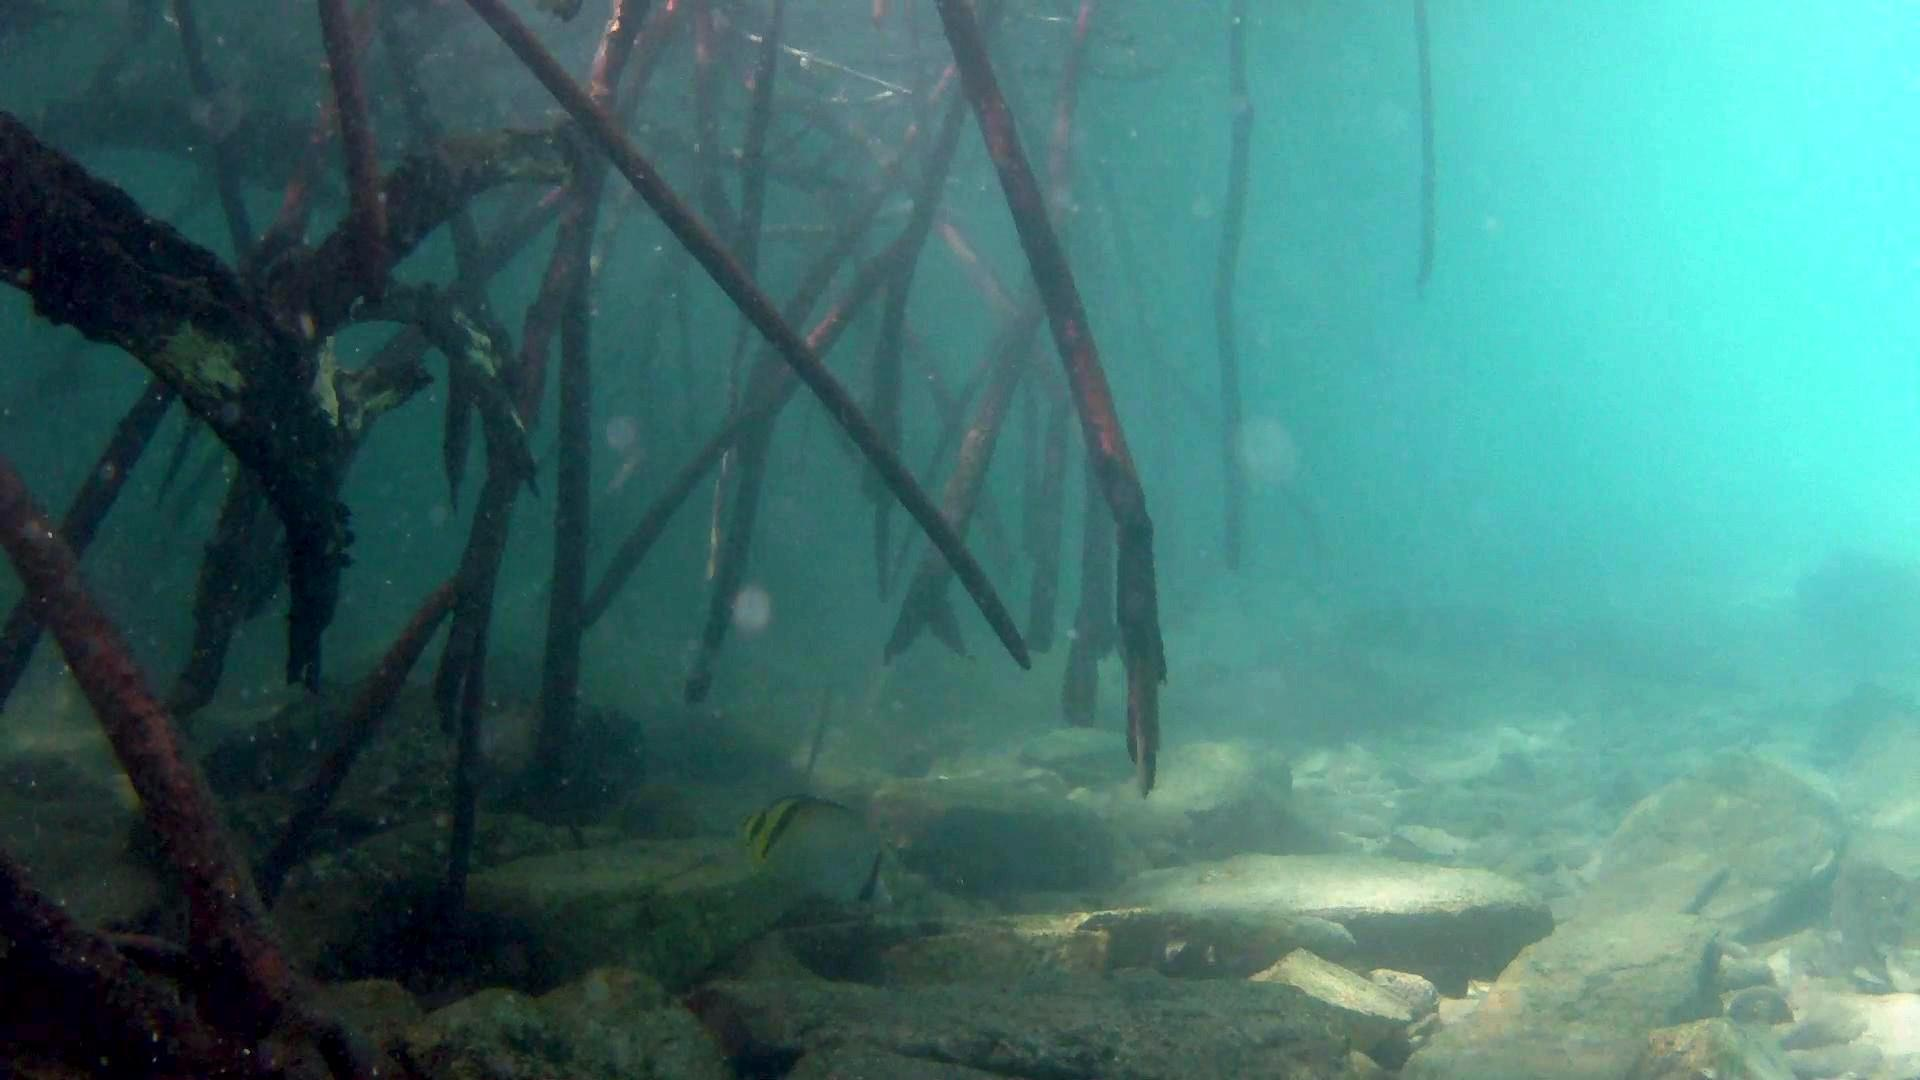chaetodon vagabundus: (735, 791, 898, 918)
